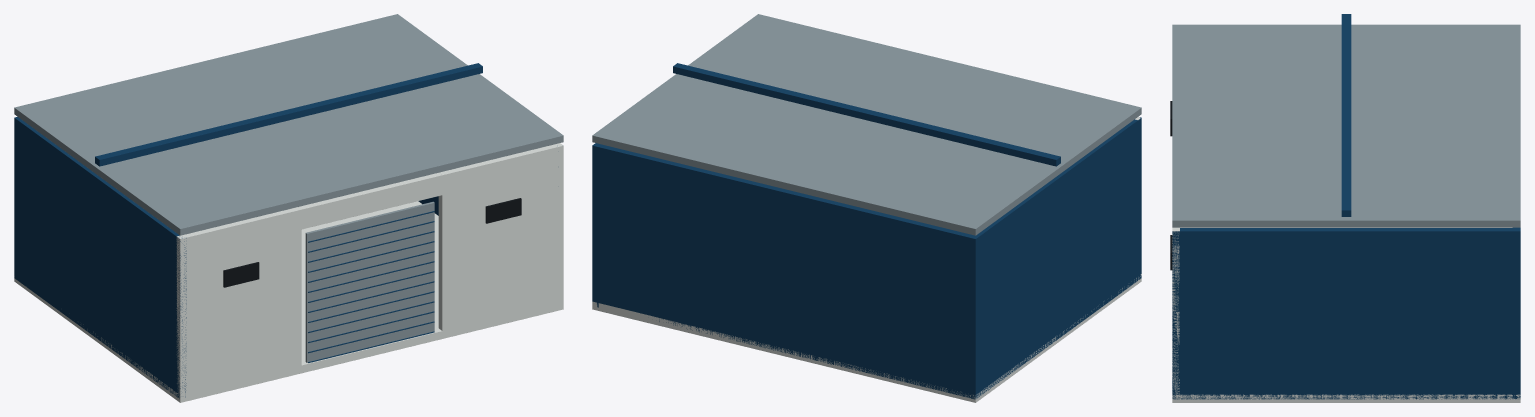
The picture shows the model from 3 angles, left to right: view 1: azimuth 30°, elevation 25°; view 2: azimuth 150°, elevation 25°; view 3: azimuth 270°, elevation 25°; orthographic projection. The views are drawn at different scales.
Parts seen in each view (by area): view 1: ROOF_Deck, SHELL_Side, BAY_Pier.001, BAY_Pier, DOOR_Shutter, SHELL_Floor, ROOF_Ridge, BAY_Header, VENT, VENT.001; view 2: SHELL_Back, ROOF_Deck, SHELL_Side, ROOF_Ridge, SHELL_Floor, SHELL_Side.001; view 3: ROOF_Deck, SHELL_Side.001, SHELL_Floor, ROOF_Ridge, SHELL_Back, BAY_Pier.
Part boxes in pixels (x1,y1,x2,y2): ROOF_Deck: (14,14,563,235); SHELL_Side: (14,118,186,398); BAY_Pier.001: (176,207,301,399); BAY_Pier: (438,143,563,330); DOOR_Shutter: (305,201,434,362); SHELL_Floor: (14,201,563,402); ROOF_Ridge: (95,63,482,166); BAY_Header: (298,172,442,229); VENT: (223,262,259,287); VENT.001: (485,198,521,223); SHELL_Back: (592,143,979,399); ROOF_Deck: (592,14,1141,235); SHELL_Side: (969,117,1141,398); ROOF_Ridge: (673,63,1060,166); SHELL_Floor: (592,274,1141,402); SHELL_Side.001: (592,143,601,307); ROOF_Deck: (1172,24,1520,227); SHELL_Side.001: (1172,228,1520,399); SHELL_Floor: (1172,227,1520,402); ROOF_Ridge: (1341,14,1351,216); SHELL_Back: (1513,227,1520,398); BAY_Pier: (1172,227,1179,398).
Bounding box in the file's own units: 12 × 5.5 × 9.05.
